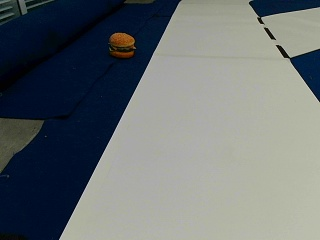burger: (108, 30, 135, 57)
